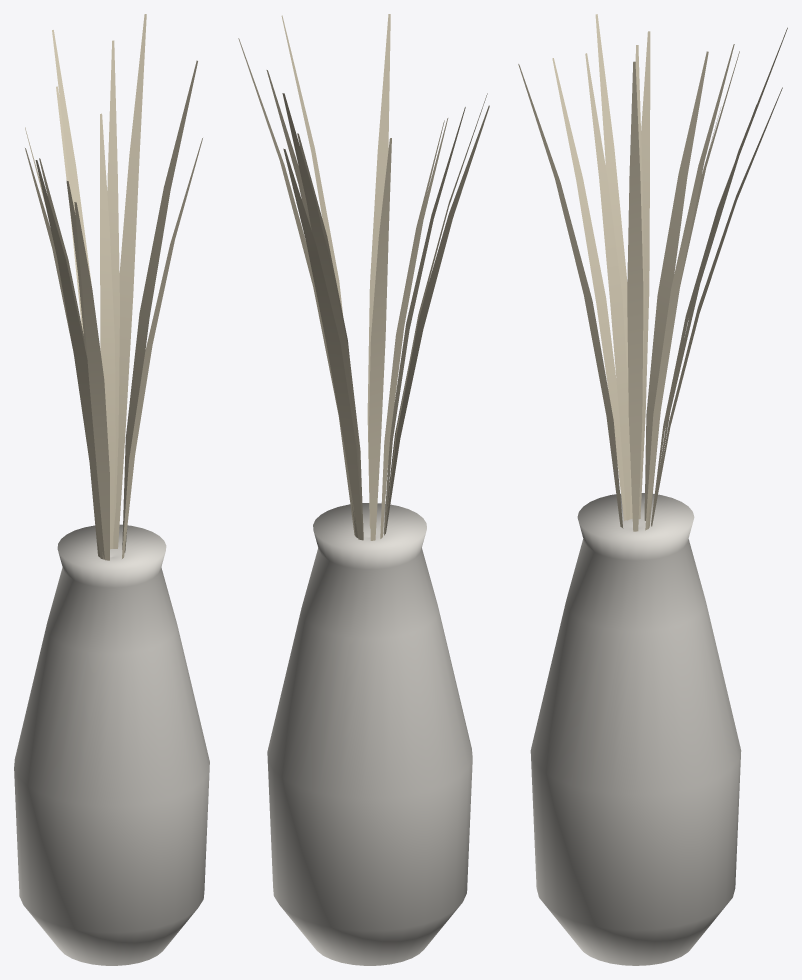
Rendered from sg_vase_tall.glb.
3 views of the same model, side by side, from view 1: azimuth 30°, elevation 25°; view 2: azimuth 150°, elevation 25°; view 3: azimuth 270°, elevation 25° (orthographic). The views are drawn at different scales.
Visible parts, largest first — view 1: vase, grass; view 2: vase, grass; view 3: vase, grass.
Boxes of the visible parts, box(x1,y1,x2,y2) form: vase: box(14, 524, 209, 965); grass: box(25, 14, 202, 560); vase: box(267, 503, 472, 965); grass: box(238, 14, 489, 540); vase: box(530, 493, 741, 965); grass: box(518, 14, 787, 531).
Size of the model in its own units: 0.1899 by 0.8856 by 0.2306.
